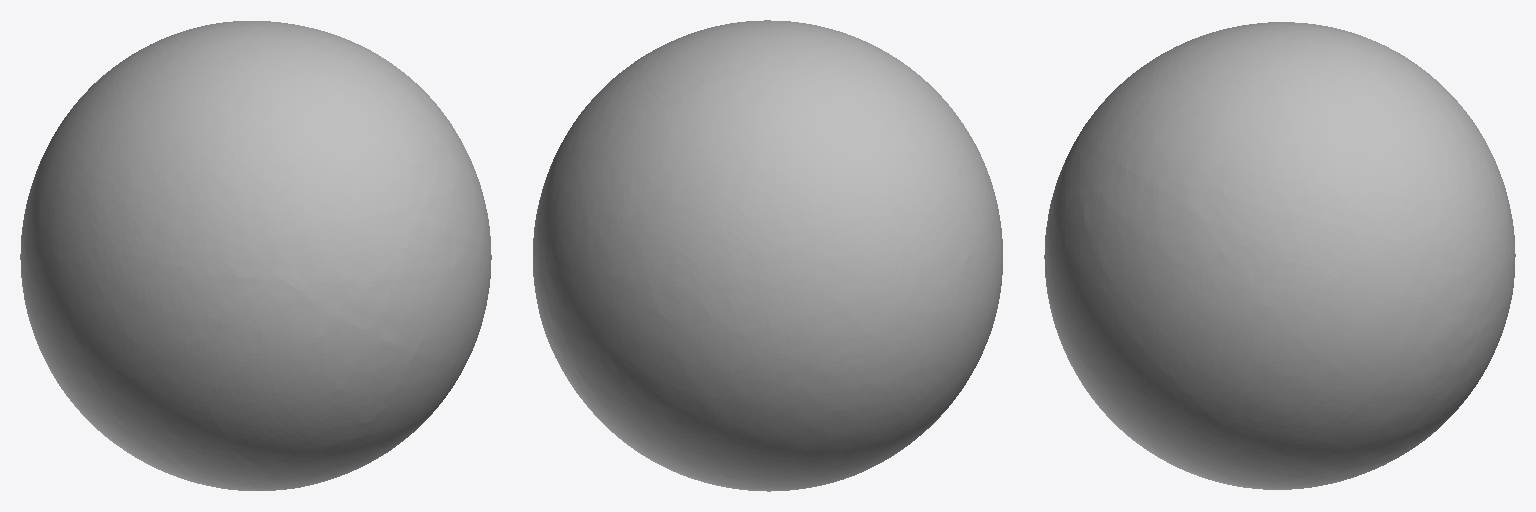
URDF robot description (root):
<robot name="root">
  <link name="link_coacd_convex_piece_0">
    <inertial>
      <origin xyz="0 0 0" rpy="0 0 0"/>
      <inertia ixx="2.90E-08" ixy="2.49E-11" ixz="-6.37E-13" iyy="2.89E-08" iyz="-4.46E-11" izz="2.90E-08"/>
    </inertial>
    <visual>
      <origin xyz="0 0 0" rpy="0 0 0"/>
      <geometry>
        <mesh filename="coacd_convex_piece_0.obj" scale="1.0000E+00 1.0000E+00 1.0000E+00"/>
      </geometry>
      <material name="">
        <color rgba="7.50E-01 7.50E-01 7.50E-01 1"/>
      </material>
    </visual>
    <collision>
      <origin xyz="0 0 0" rpy="0 0 0"/>
      <geometry>
        <mesh filename="coacd_convex_piece_0.obj" scale="1.0000E+00 1.0000E+00 1.0000E+00"/>
      </geometry>
    </collision>
  </link>
</robot>

--- Render facts (derived) ---
The picture shows the robot from 3 angles, left to right: view 1: azimuth 30°, elevation 25°; view 2: azimuth 150°, elevation 25°; view 3: azimuth 270°, elevation 25°; orthographic projection.
Robot: root — 1 links, 0 joints (none); root link link_coacd_convex_piece_0; default pose: every joint at zero.
Visible links, largest first — view 1: link_coacd_convex_piece_0; view 2: link_coacd_convex_piece_0; view 3: link_coacd_convex_piece_0.
Link boxes in pixels (x1,y1,x2,y2): link_coacd_convex_piece_0: (20,21,491,490); link_coacd_convex_piece_0: (533,20,1002,491); link_coacd_convex_piece_0: (1044,22,1515,489).
Size in the robot's own frame: 0.0564 by 0.0567 by 0.0562 metres.
1 mesh visuals loaded from 1 distinct referenced files (1 OBJ).